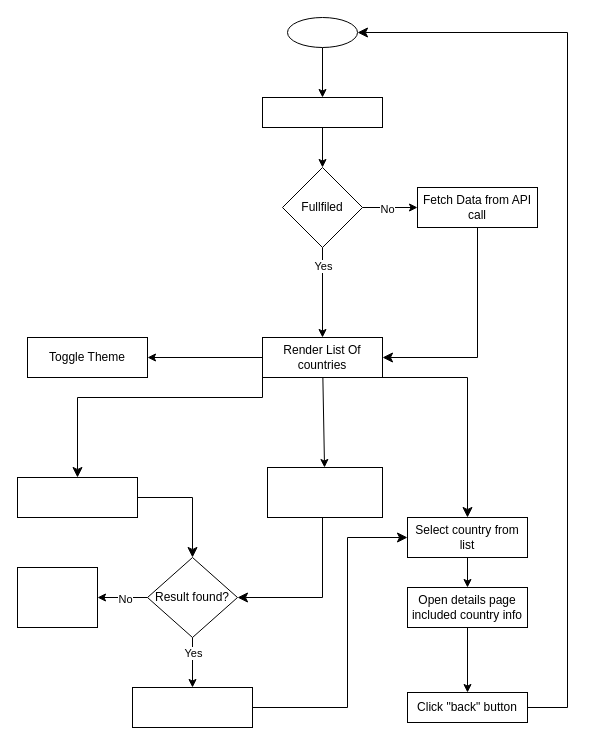
The diagram is 595 pixels wide and 745 high, and some of its shapes have lost their labels. The box of each missing label's shape, as (x1, y1, x2, y2) in pixels:
Change a region from dropdown list: (266, 466, 382, 518)
Fetching data from Local Storage: (262, 96, 382, 128)
Search For country: (16, 476, 138, 518)
Show "No result found!" message: (16, 566, 98, 628)
Start: (286, 16, 358, 48)
